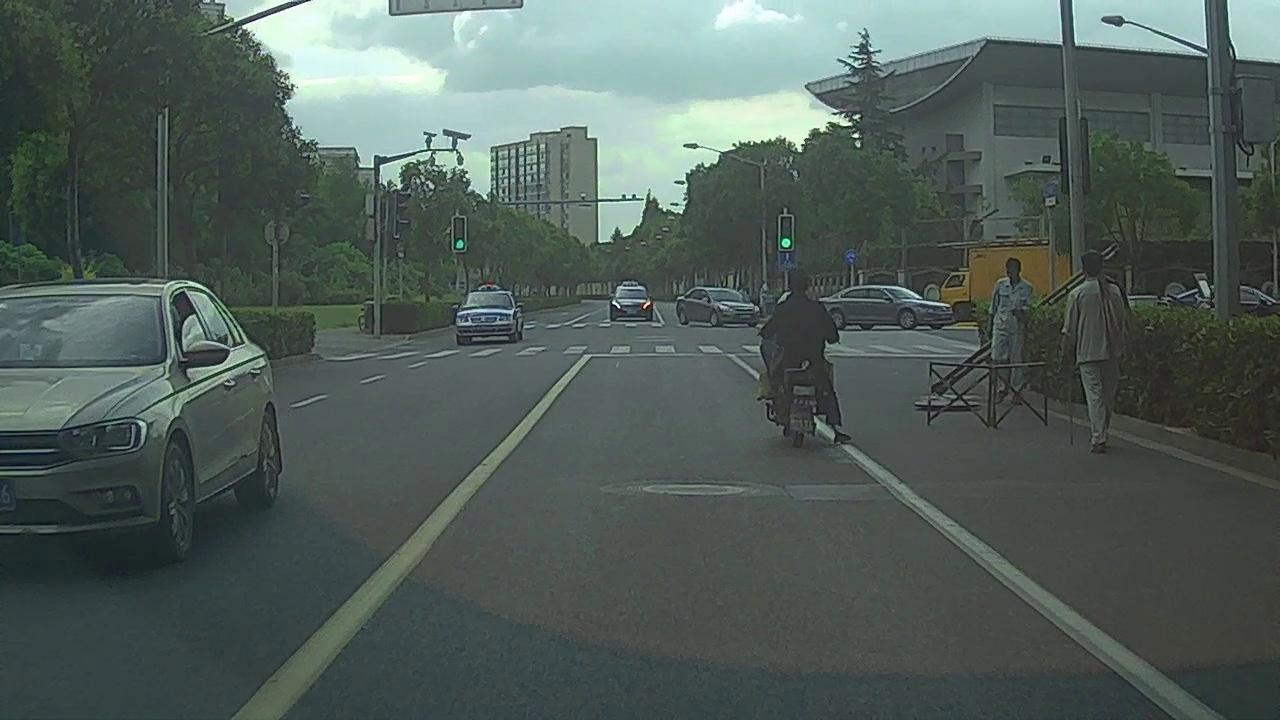traffic_light: (452, 218, 466, 251), (780, 216, 793, 250)
